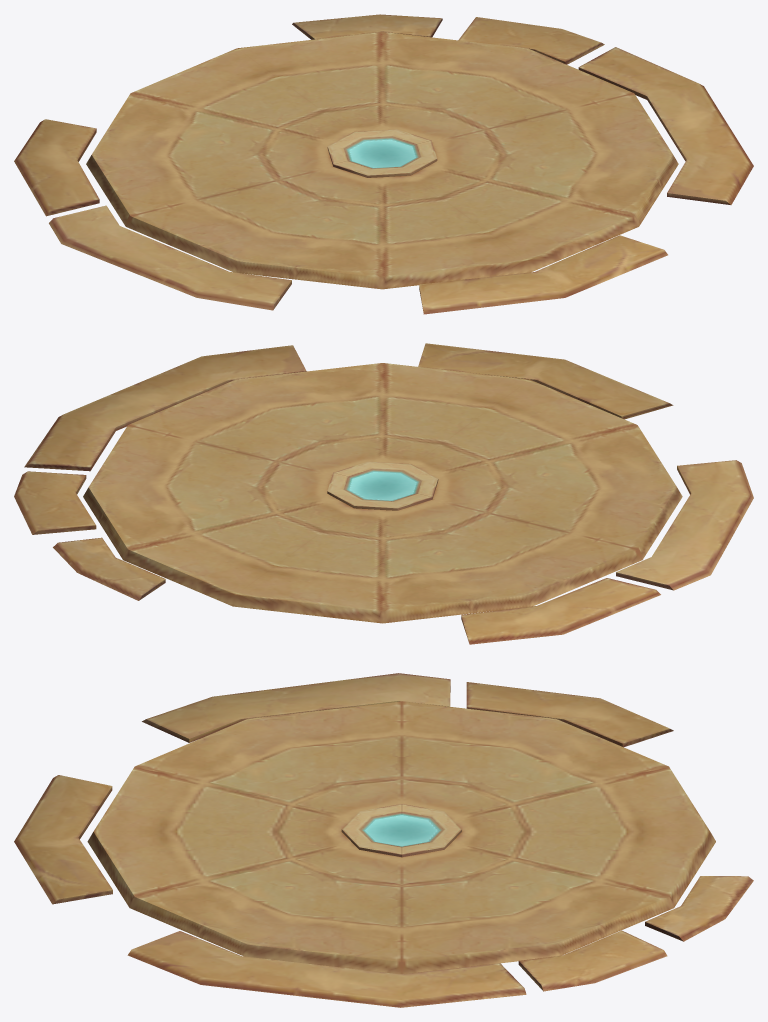
The model's file is Area_08_2.fbx.
3 renders of one model, top to bottom at view 1: azimuth 30°, elevation 25°; view 2: azimuth 150°, elevation 25°; view 3: azimuth 270°, elevation 25°, orthographic. The views are drawn at different scales.
Visible parts, largest first — view 1: Area_08_2; view 2: Area_08_2; view 3: Area_08_2.
Part boxes in pixels (x1,y1,x2,y2): Area_08_2: [14, 14, 753, 314]; Area_08_2: [14, 343, 753, 644]; Area_08_2: [14, 673, 753, 1007].
Bounding box in the file's own units: 2432 × 42.13 × 2282.
Materials: 1 (1 with a texture image).
